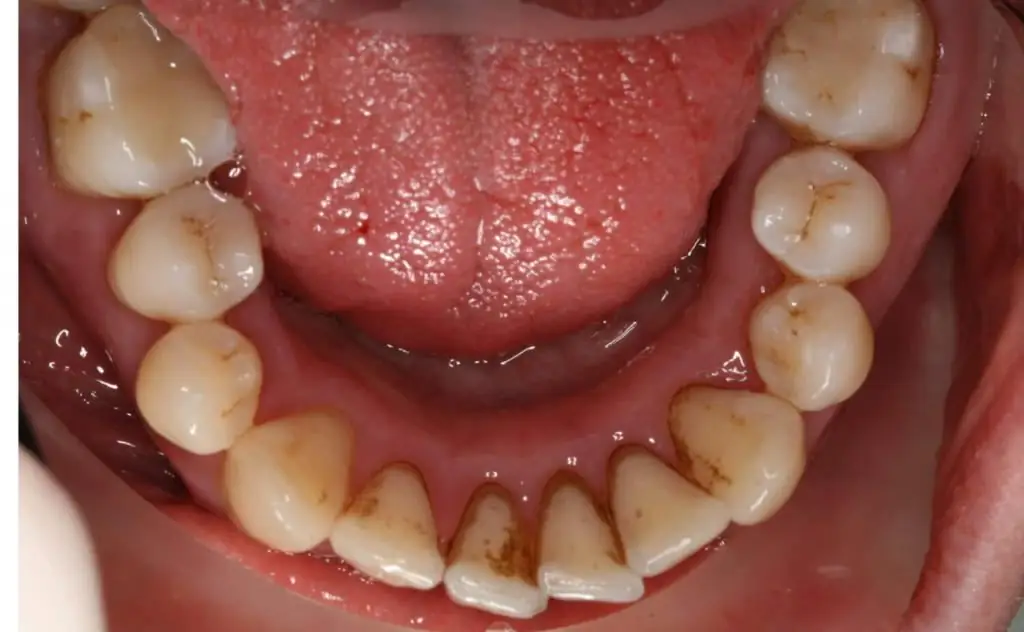LL1BC_decay: (752, 286, 876, 402)
LL1M_decay: (767, 10, 932, 144)
LL2BC_decay: (755, 154, 887, 265)
LLCI_decay: (529, 473, 636, 606)
LLC_decay: (668, 371, 803, 524)
LLLI_decay: (614, 437, 725, 573)
LR1BC_decay: (136, 335, 256, 457)
LR1M_decay: (52, 19, 224, 180)
LR2BC_decay: (107, 181, 272, 328)
LRCI_decay: (447, 480, 543, 619)
LRC_decay: (235, 409, 352, 544)
LRLI_decay: (351, 465, 449, 586)
